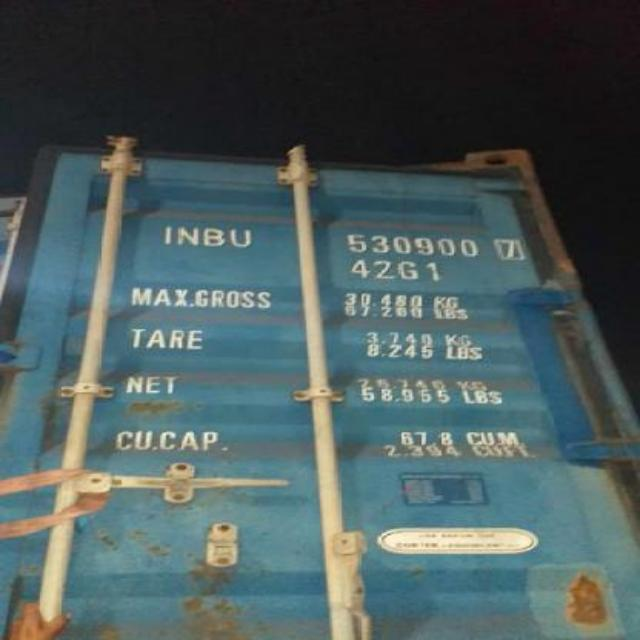0: (456, 230, 478, 260), (438, 232, 458, 262), (392, 230, 412, 256)
3: (370, 231, 390, 257)
5: (347, 228, 368, 256)
7: (492, 236, 524, 264)
9: (412, 230, 438, 256)
B: (200, 218, 226, 254)
I: (156, 220, 174, 250)
N: (174, 221, 202, 251)
U: (224, 218, 256, 252)
